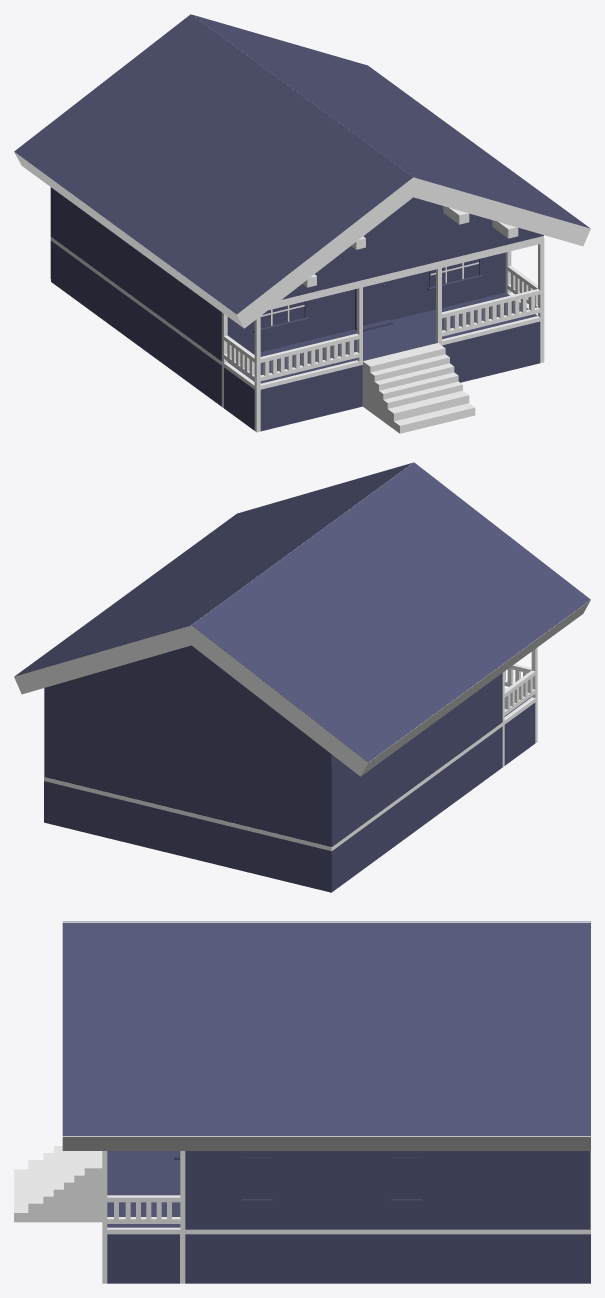
File: Small_Low_Poly_House.glb
3 renders of one model, top to bottom at view 1: azimuth 30°, elevation 25°; view 2: azimuth 150°, elevation 25°; view 3: azimuth 270°, elevation 25°, orthographic. The views are drawn at different scales.
Visible parts, largest first — view 1: Cube_4_3_Mat.1_0, Cube_1_5_Mat.6_0, Cube_1_4_Mat.1_0, Cube_5_5_Mat.6_0, Cube__0, Cube_1__0, Cube_2_4_Mat.6_0, Cube_3_4_Mat.6_0, Cube_5_4_Mat.6_0, Cube_15_4__0, Cube_4_4_Mat.6_0, Cube_5_6__0 (+16 smaller); view 2: Cube_4_3_Mat.1_0, Cube_1_5_Mat.6_0, Cube_1_4_Mat.1_0, Cube_5_5_Mat.6_0, Cube__0, Cube_5_4_Mat.6_0, Cube_2_4_Mat.6_0, Cube_1__0, Cube_3_4_Mat.6_0, Cube_4_4_Mat.6_0, Cube_5_3_Mat.6_0, Cube_6_2_Mat.6_0; view 3: Cube_1_4_Mat.1_0, Cube_1_5_Mat.6_0, Cube_5_5_Mat.6_0, Cube_1__0, Cube_6_7__0, Cube_1_13__0, Cube_12_2_Mat.7_0, Cube_12_3_Mat.7_0, Cube_15_4__0, Cube_4_8__0, Cube_2_15__0, Cube_10_2__0 (+6 smaller).
Boxes of the visible parts, x1,y1,x2,y2 form: Cube_4_3_Mat.1_0: (14, 14, 413, 314); Cube_1_5_Mat.6_0: (50, 187, 505, 403); Cube_1_4_Mat.1_0: (192, 14, 589, 228); Cube_5_5_Mat.6_0: (51, 279, 540, 431); Cube__0: (14, 14, 420, 328); Cube_1__0: (414, 177, 590, 246); Cube_2_4_Mat.6_0: (298, 225, 528, 287); Cube_3_4_Mat.6_0: (325, 214, 492, 265); Cube_5_4_Mat.6_0: (282, 231, 543, 299); Cube_15_4__0: (362, 390, 469, 428); Cube_4_4_Mat.6_0: (363, 206, 472, 240); Cube_5_6__0: (362, 343, 445, 380); Cube_4_3_Mat.1_0: (191, 462, 590, 762); Cube_1_5_Mat.6_0: (44, 673, 502, 889); Cube_1_4_Mat.1_0: (14, 462, 412, 676); Cube_5_5_Mat.6_0: (44, 697, 535, 892); Cube__0: (191, 464, 590, 776); Cube_5_4_Mat.6_0: (44, 688, 337, 773); Cube_2_4_Mat.6_0: (45, 678, 333, 757); Cube_1__0: (14, 625, 198, 694); Cube_3_4_Mat.6_0: (78, 670, 303, 732); Cube_4_4_Mat.6_0: (106, 662, 281, 715); Cube_5_3_Mat.6_0: (134, 654, 251, 692); Cube_6_2_Mat.6_0: (158, 647, 228, 674); Cube_1_4_Mat.1_0: (62, 922, 590, 1135); Cube_1_5_Mat.6_0: (185, 1151, 590, 1229); Cube_5_5_Mat.6_0: (107, 1151, 590, 1283); Cube_1__0: (62, 922, 590, 1150); Cube_6_7__0: (14, 1169, 102, 1222); Cube_1_13__0: (43, 1153, 102, 1212); Cube_12_2_Mat.7_0: (393, 1158, 419, 1199); Cube_12_3_Mat.7_0: (244, 1158, 270, 1199); Cube_15_4__0: (28, 1160, 43, 1212); Cube_4_8__0: (74, 1151, 102, 1194); Cube_2_15__0: (53, 1146, 102, 1196); Cube_10_2__0: (102, 1227, 181, 1234).
Size of the model in its own units: 9.41 by 5.92 by 11.18.
